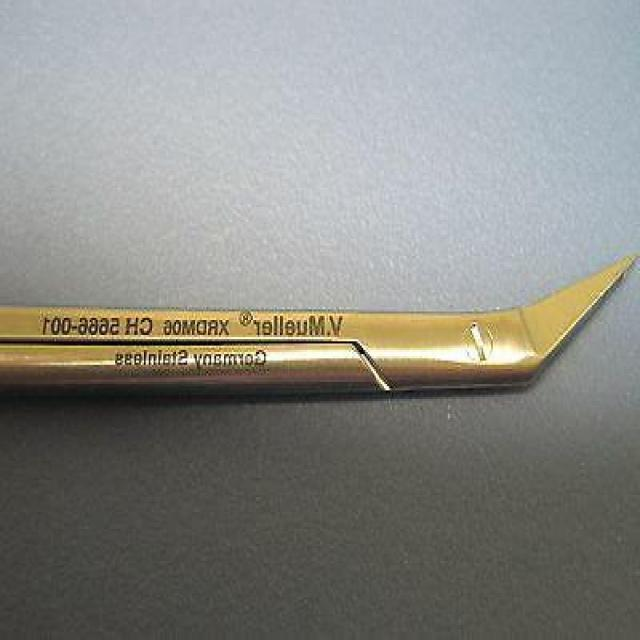Potts: (0, 241, 640, 408)
